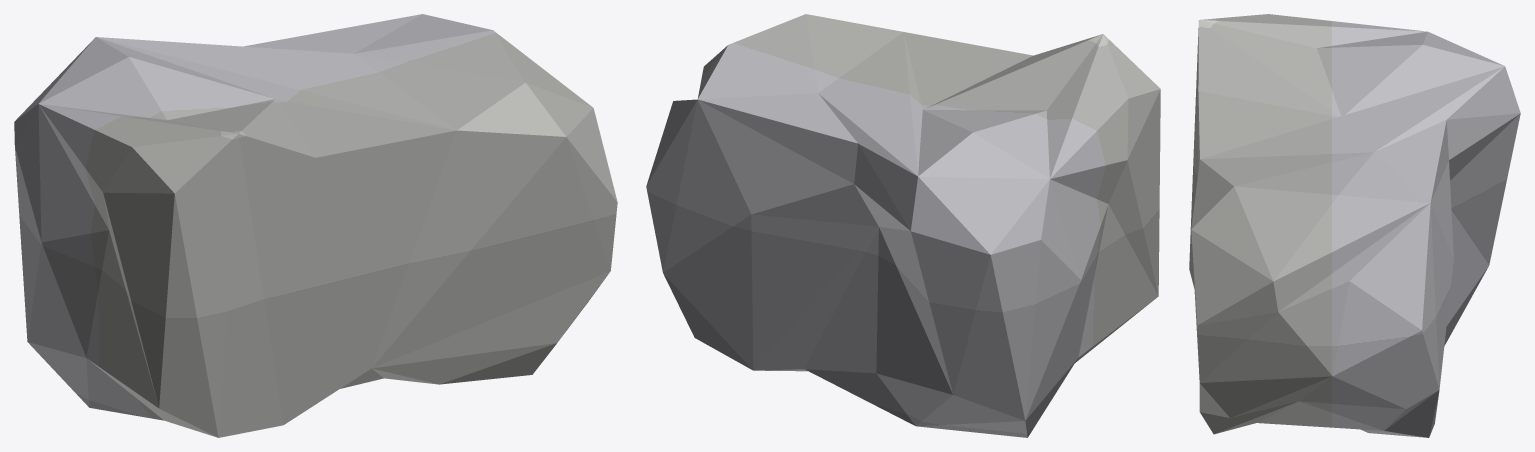
File: YN_Boulder1.fbx
3 views of the same model, side by side, from view 1: azimuth 30°, elevation 25°; view 2: azimuth 150°, elevation 25°; view 3: azimuth 270°, elevation 25° (orthographic). The views are drawn at different scales.
Visible parts, largest first — view 1: Boulder1; view 2: Boulder1; view 3: Boulder1.
Boxes of the visible parts, <box> form: Boulder1: <box>14,14,617,437</box>; Boulder1: <box>646,14,1160,437</box>; Boulder1: <box>1189,14,1520,437</box>.
Size of the model in its own units: 4.39 by 2.97 by 2.87.
